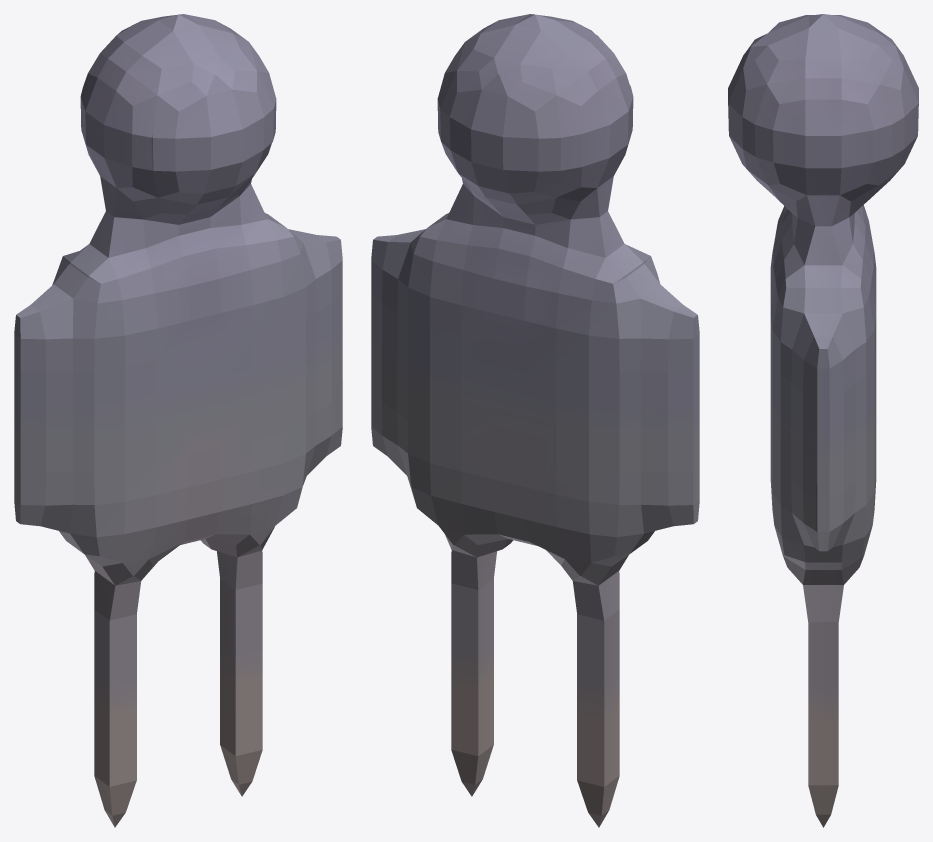
The model's file is skeletonWarriorSummon.glb.
The picture shows the model from 3 angles, left to right: view 1: azimuth 30°, elevation 25°; view 2: azimuth 150°, elevation 25°; view 3: azimuth 270°, elevation 25°; orthographic projection.
Visible parts, largest first — view 1: geometry_0; view 2: geometry_0; view 3: geometry_0.
Boxes of the visible parts, x1,y1,x2,y2 form: geometry_0: (14,14,342,827); geometry_0: (371,14,699,827); geometry_0: (728,14,918,827).
Size of the model in its own units: 0.4226 by 1 by 0.2207.
Materials: 1 (1 with a texture image).
